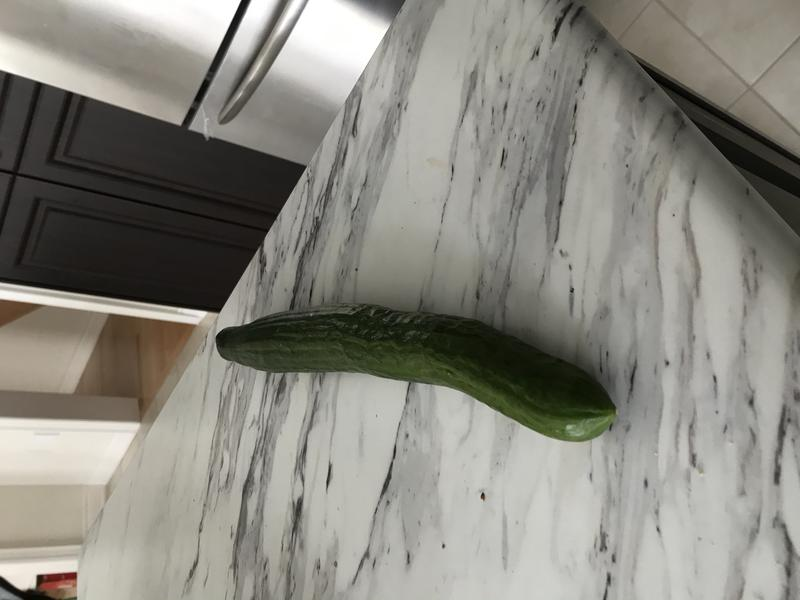cucumber: (208, 302, 630, 455)
